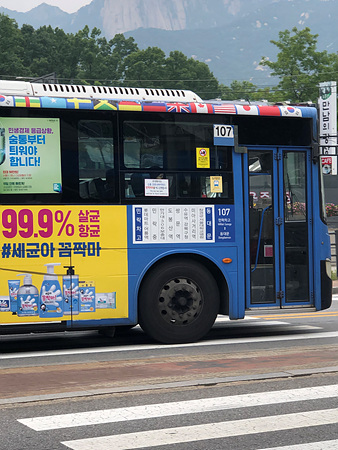entrance: (242, 143, 319, 316)
